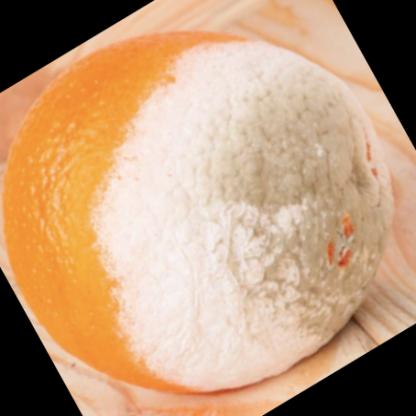rotten: (1, 32, 391, 395)
